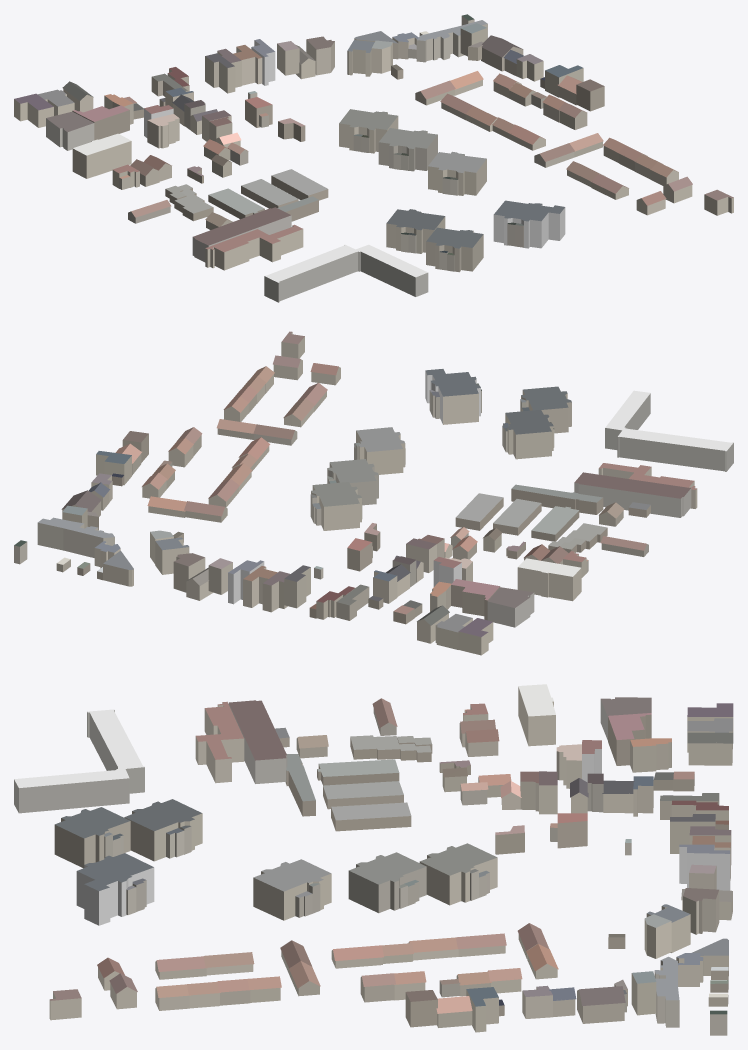
3 renders of one model, top to bottom at view 1: azimuth 30°, elevation 25°; view 2: azimuth 150°, elevation 25°; view 3: azimuth 270°, elevation 25°, orthographic. The views are drawn at different scales.
Parts seen in each view (by area): view 1: tuile; view 2: tuile; view 3: tuile.
Boxes of the visible parts, bbox=[...] form: tuile: bbox=[14, 14, 733, 302]; tuile: bbox=[14, 331, 733, 655]; tuile: bbox=[14, 684, 733, 1035].
Size of the model in its own units: 263 by 25.55 by 263.
